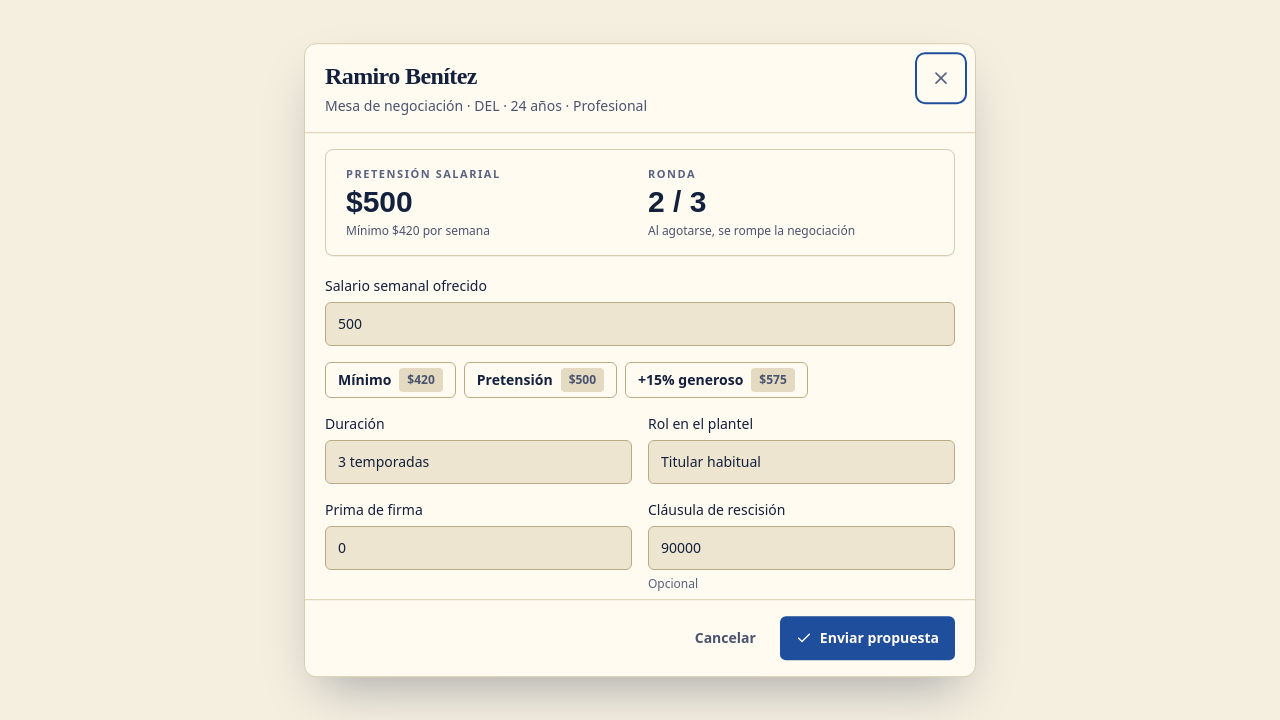
Test: modales del plantel (escritorio) › ContractRenewalModal carga las pretensiones y valida el salario antes de enviar
Clear the number field labelled "Salario semanal ofrecido" at [640, 324], box [325,302,955,346]
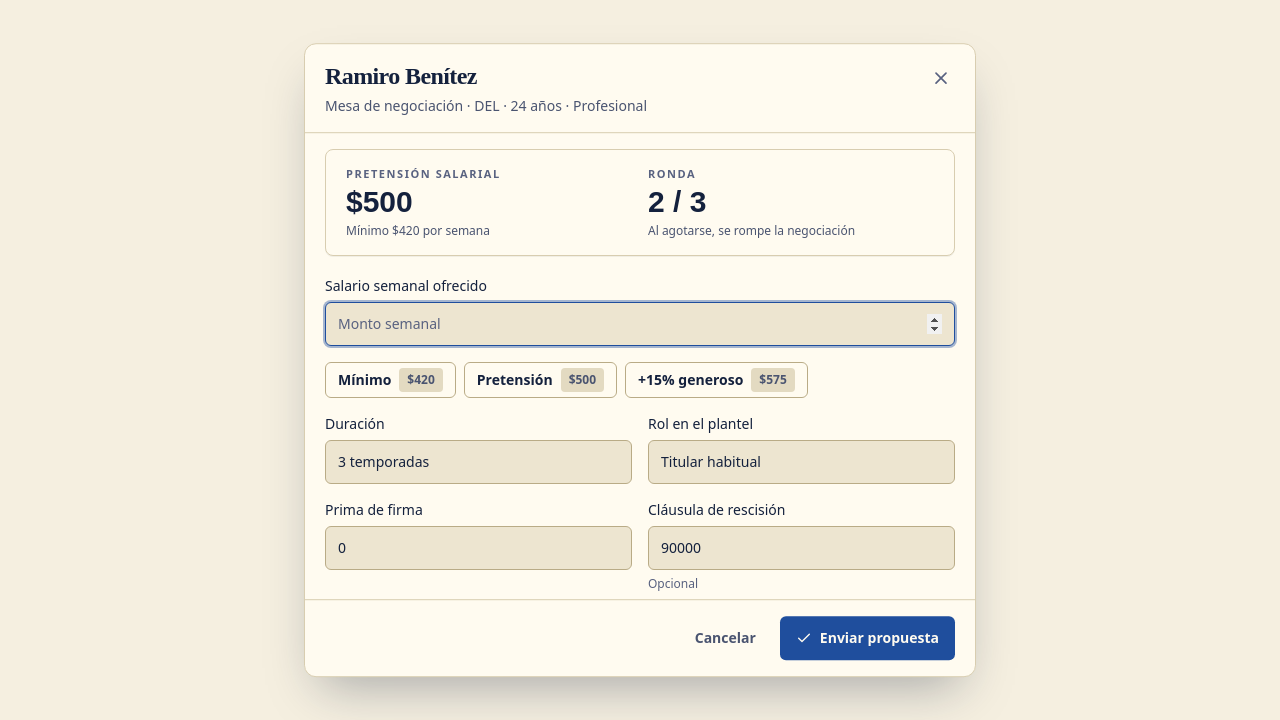
Click the button "Enviar propuesta" at [867, 638], box [780,616,955,660]
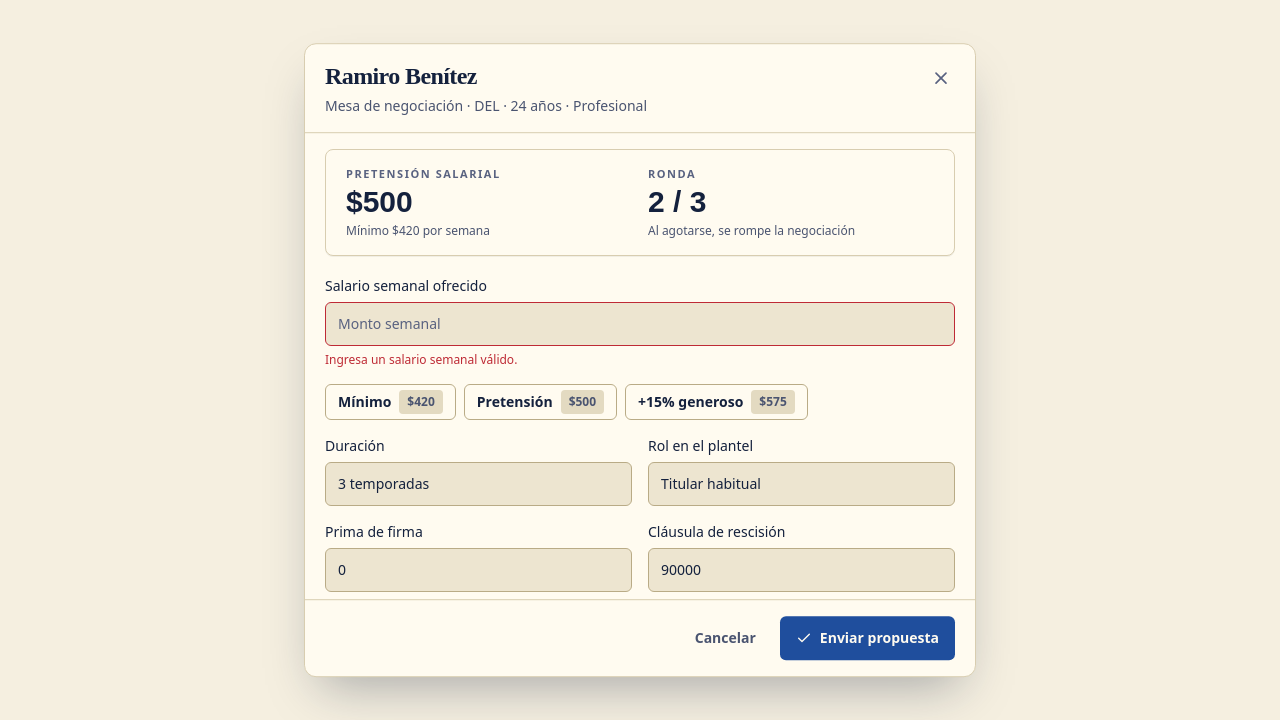
Check: the message reads "Ingresa un salario semanal válido.", box [325,351,517,368]
